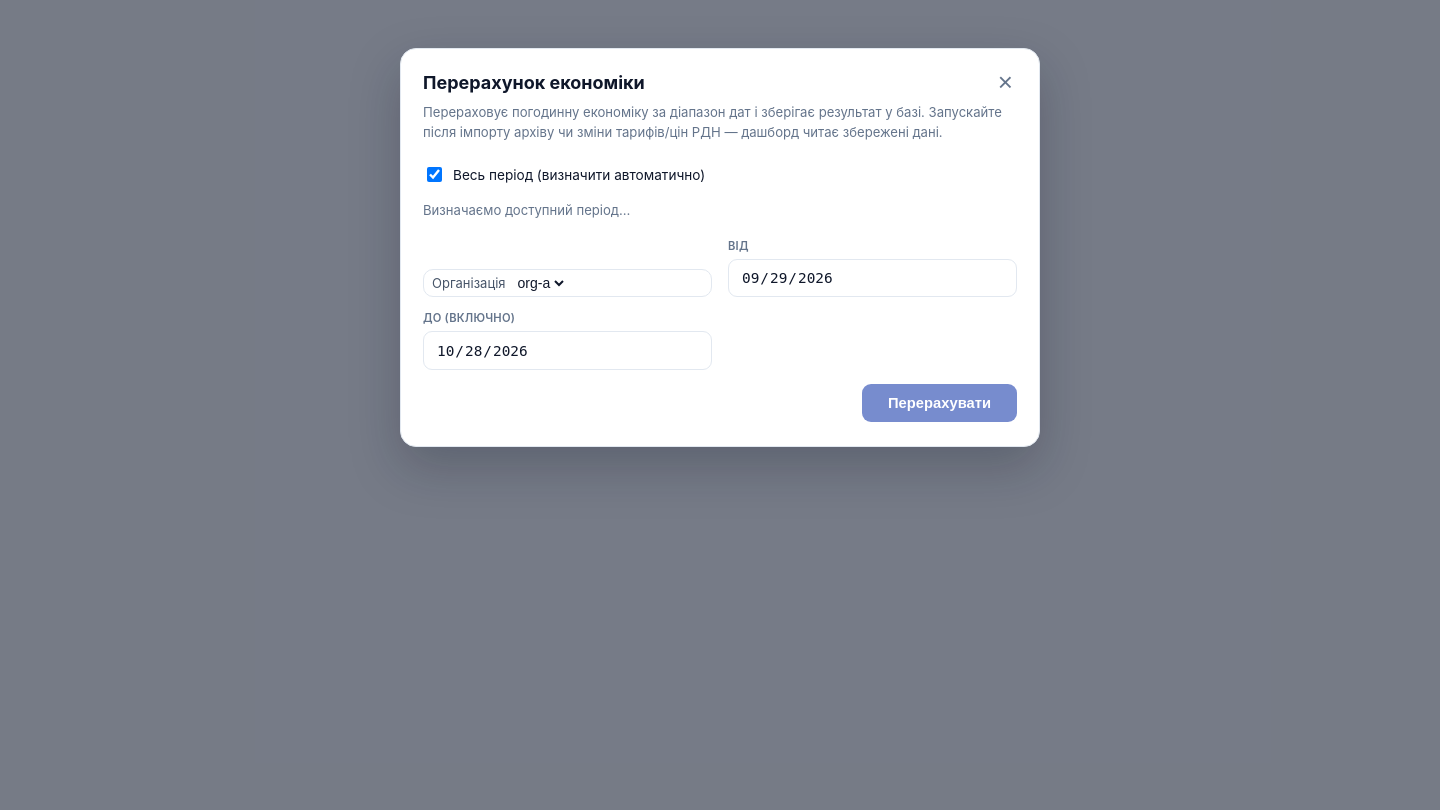
Scenario: EconomicsRecomputeModal › re-enables manual date entry when the full-period toggle is off
Click the checkbox. click: coordinates (434, 175)
box: [427, 167, 442, 182]
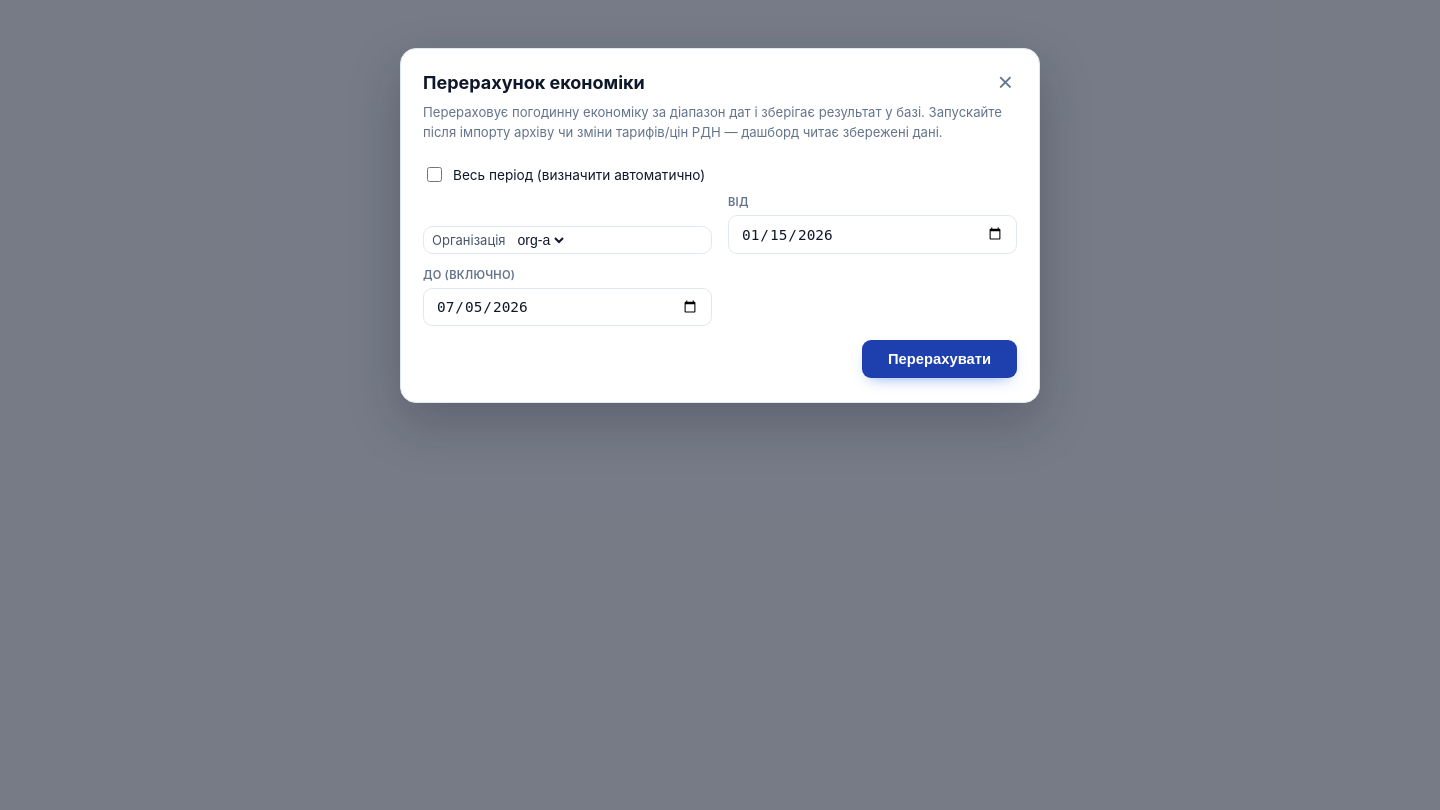
Check: the date field labelled "Від" is enabled, box [728, 215, 1017, 254]
